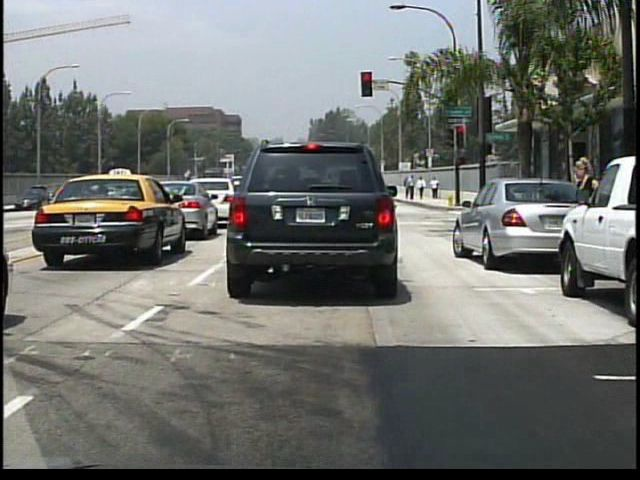person: (562, 152, 601, 273), (570, 163, 595, 230), (430, 175, 441, 201), (407, 174, 417, 200), (417, 175, 426, 201), (404, 176, 413, 200)
